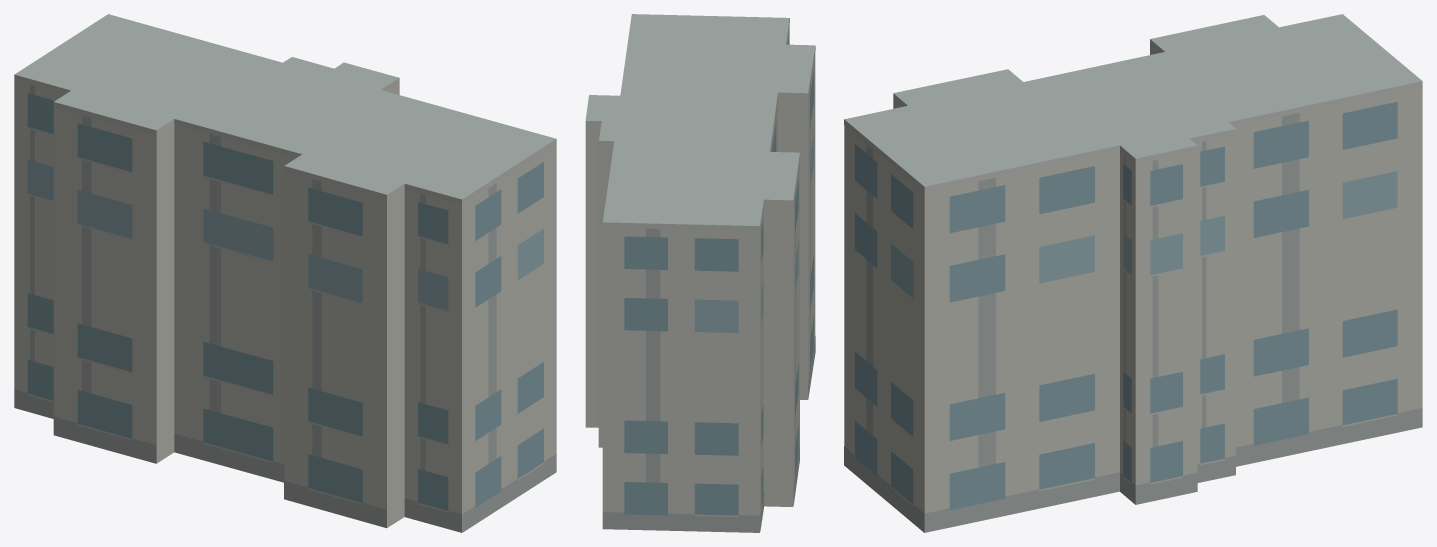
The model's file is survey-upis-32944646.glb.
3 renders of one model, left to right at view 1: azimuth 30°, elevation 25°; view 2: azimuth 150°, elevation 25°; view 3: azimuth 270°, elevation 25°, orthographic. The views are drawn at different scales.
Parts seen in each view (by area): view 1: survey-upis-32944646.tmp; view 2: survey-upis-32944646.tmp; view 3: survey-upis-32944646.tmp.
Boxes of the visible parts, x1,y1,x2,y2 form: survey-upis-32944646.tmp: [14, 14, 556, 532]; survey-upis-32944646.tmp: [585, 14, 815, 532]; survey-upis-32944646.tmp: [844, 14, 1422, 532].
Size of the model in its own units: 15.66 by 14.63 by 22.16.
